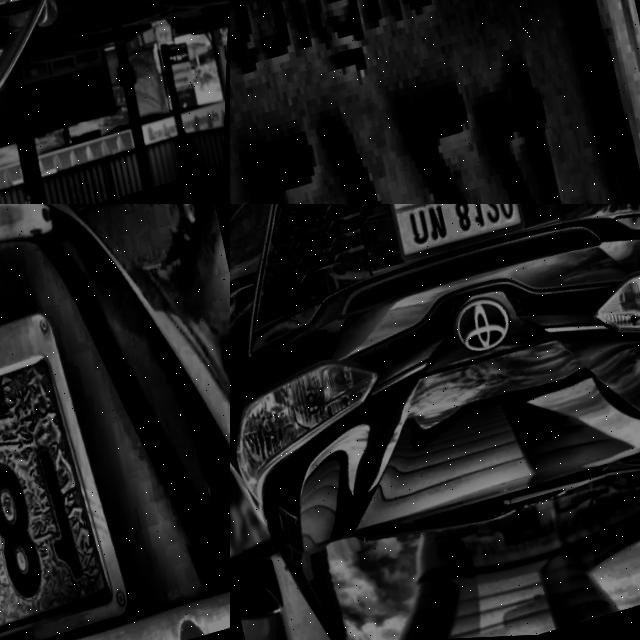license-plate: (230, 0, 640, 204), (0, 293, 152, 640), (380, 204, 532, 270)
